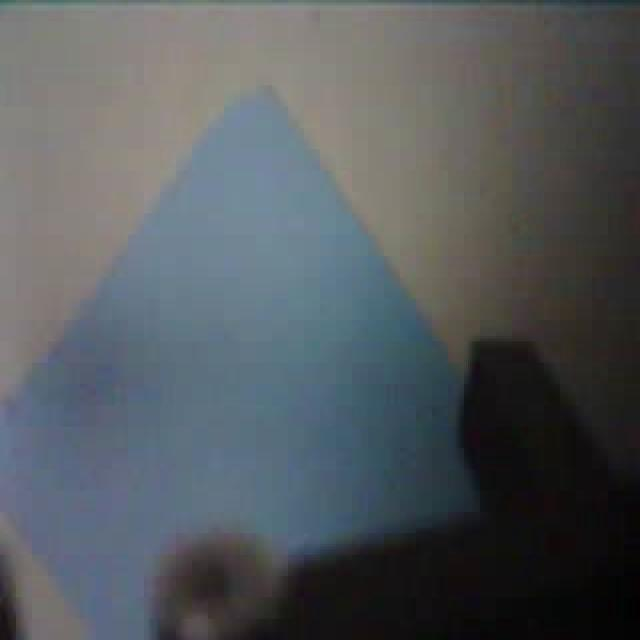blue_box: (0, 78, 478, 638)
